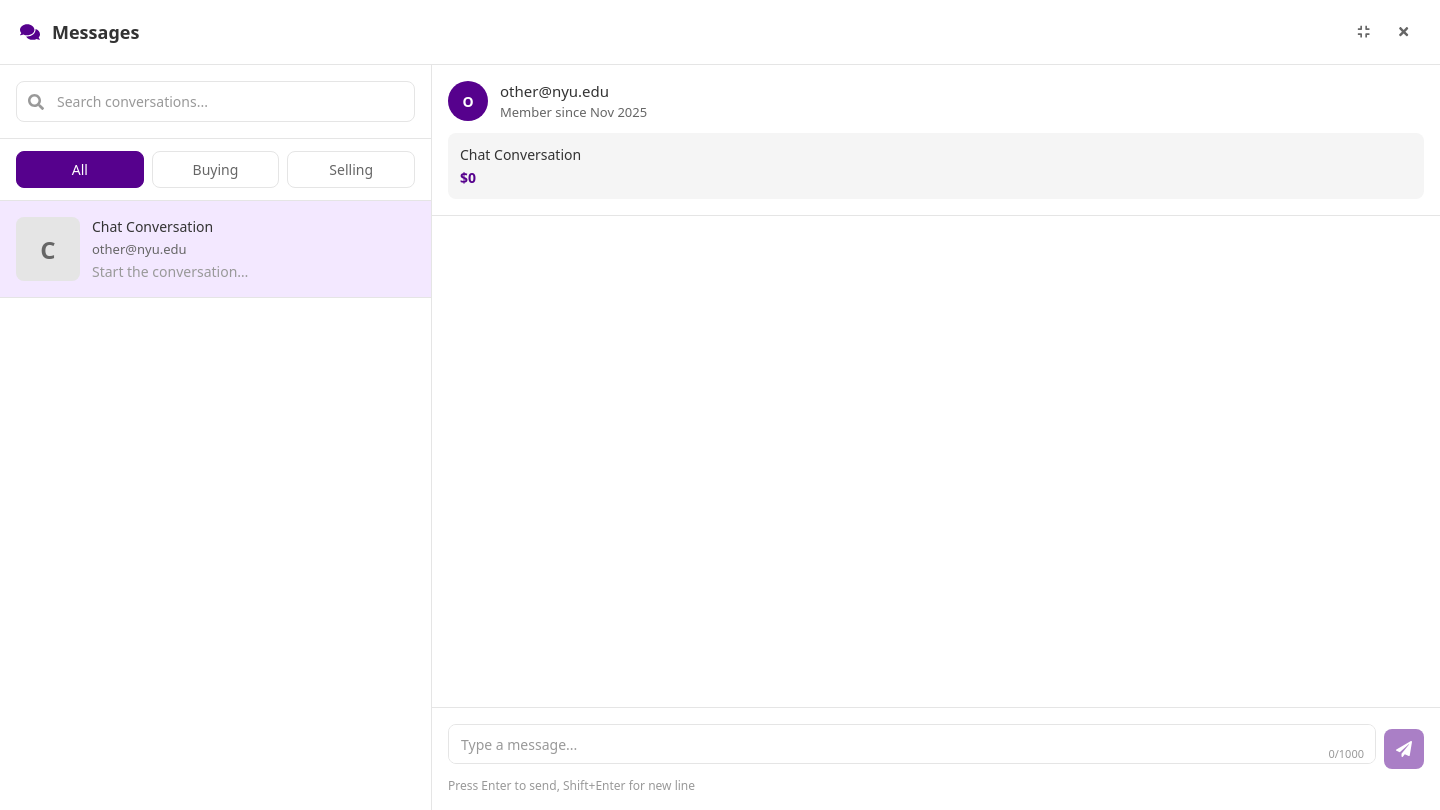
Test: Chat page › sends a message via WS and REST, then shows it
In the text box with placeholder "Type a message...": (912, 744) [448,724,1376,764], type "Yo"
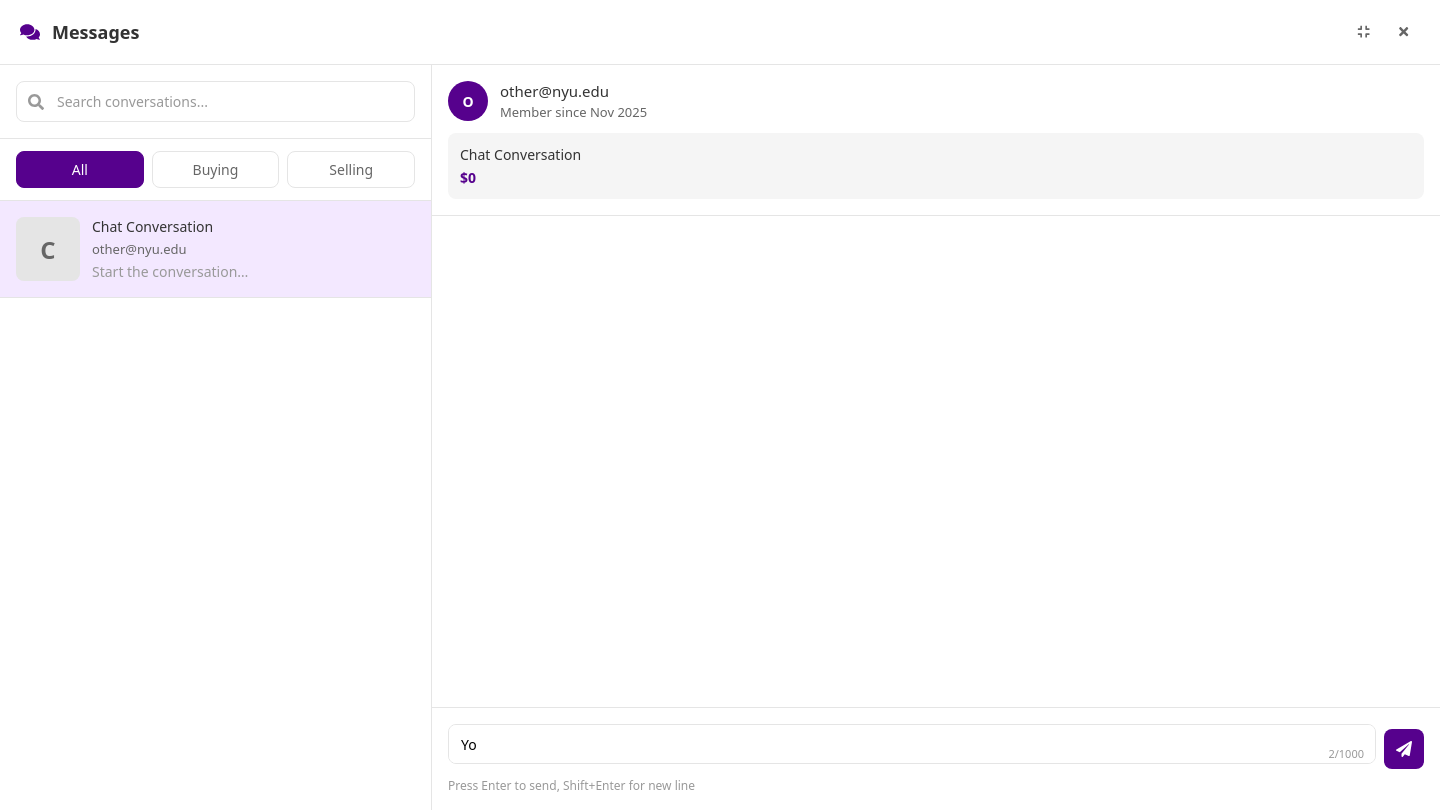
Check: the button named "send message" is enabled
Click the button named "send message": (1404, 749) [1384,729,1424,769]
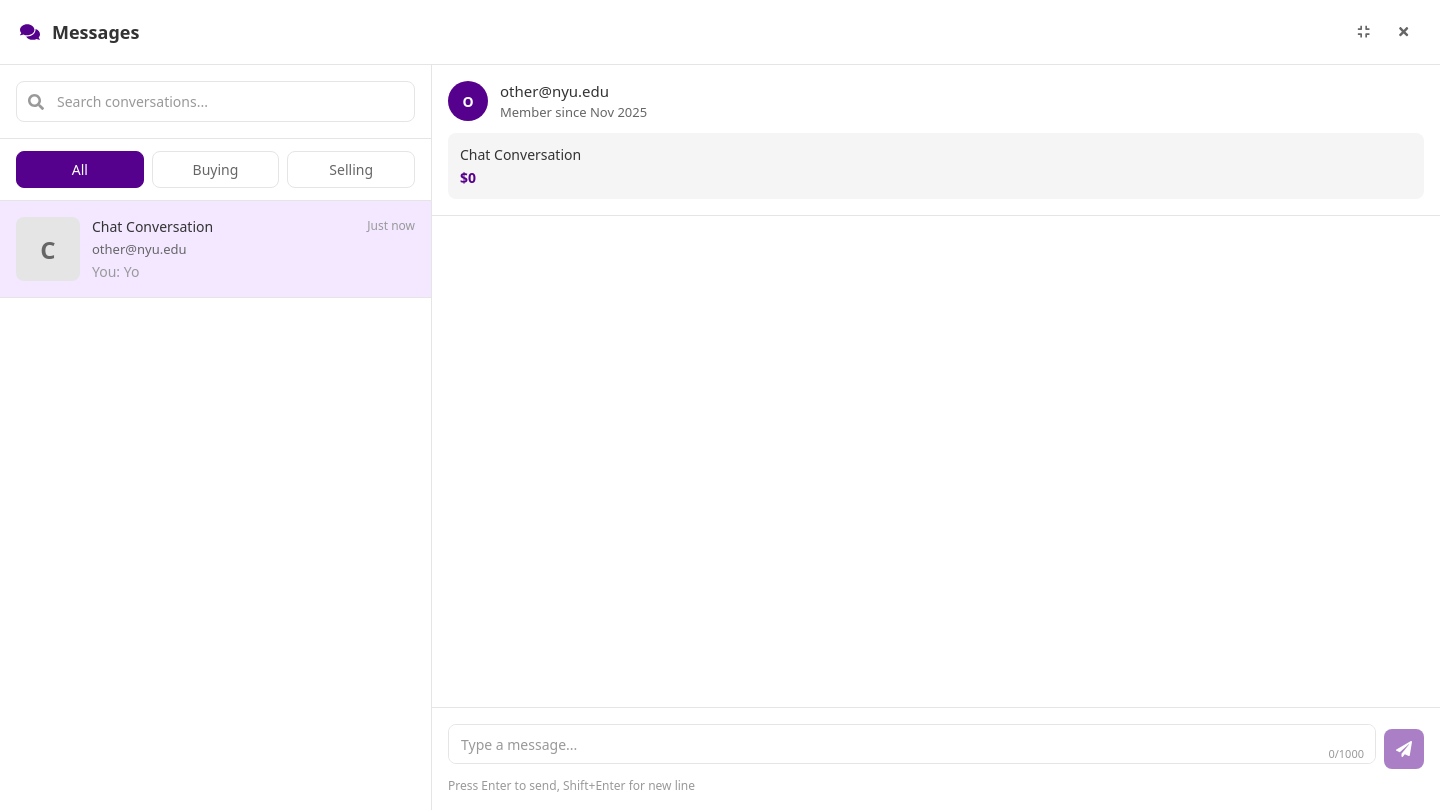
Check: the text "Yo" is shown, box [124,262,140,281]
